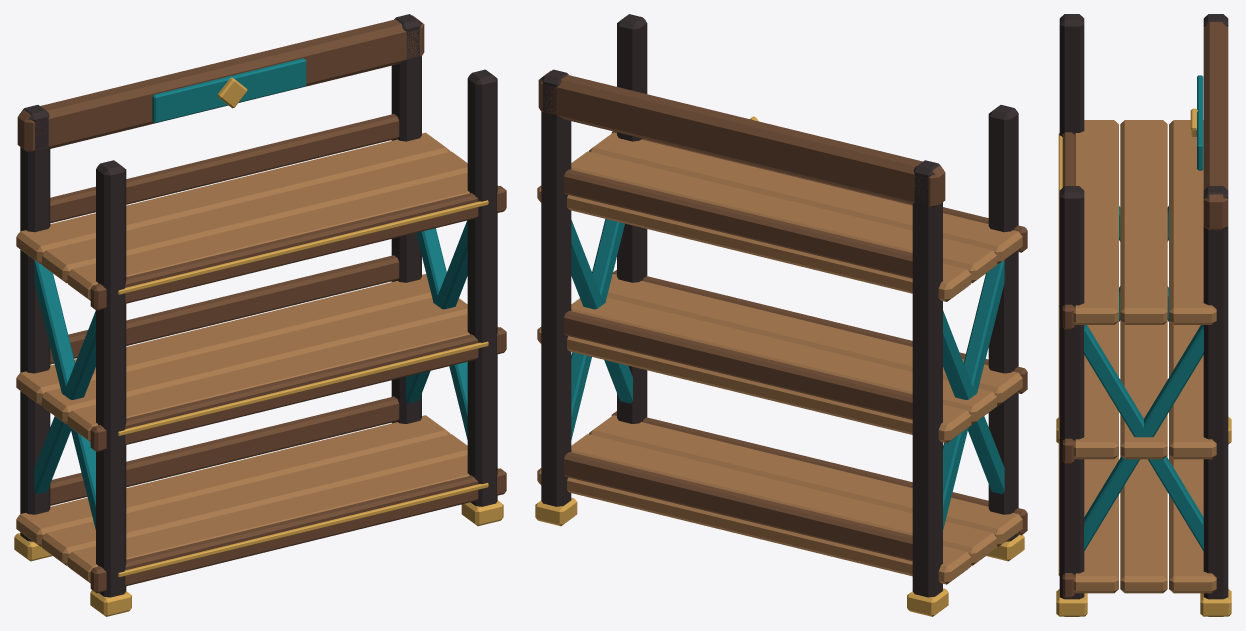
File: 22_Display_Shelf.glb
The picture shows the model from 3 angles, left to right: view 1: azimuth 30°, elevation 25°; view 2: azimuth 150°, elevation 25°; view 3: azimuth 270°, elevation 25°; orthographic projection. The views are drawn at different scales.
Visible parts, largest first — view 1: 22_Display_Shelf__Body; view 2: 22_Display_Shelf__Body; view 3: 22_Display_Shelf__Body.
Part boxes in pixels (left/top/right/bottom): 22_Display_Shelf__Body: left=14, top=14, right=506, bottom=616; 22_Display_Shelf__Body: left=535, top=14, right=1027, bottom=616; 22_Display_Shelf__Body: left=1056, top=14, right=1231, bottom=616.
Bounding box in the file's own units: 3.34 × 3.45 × 1.29.
1 material, 1 textured.
